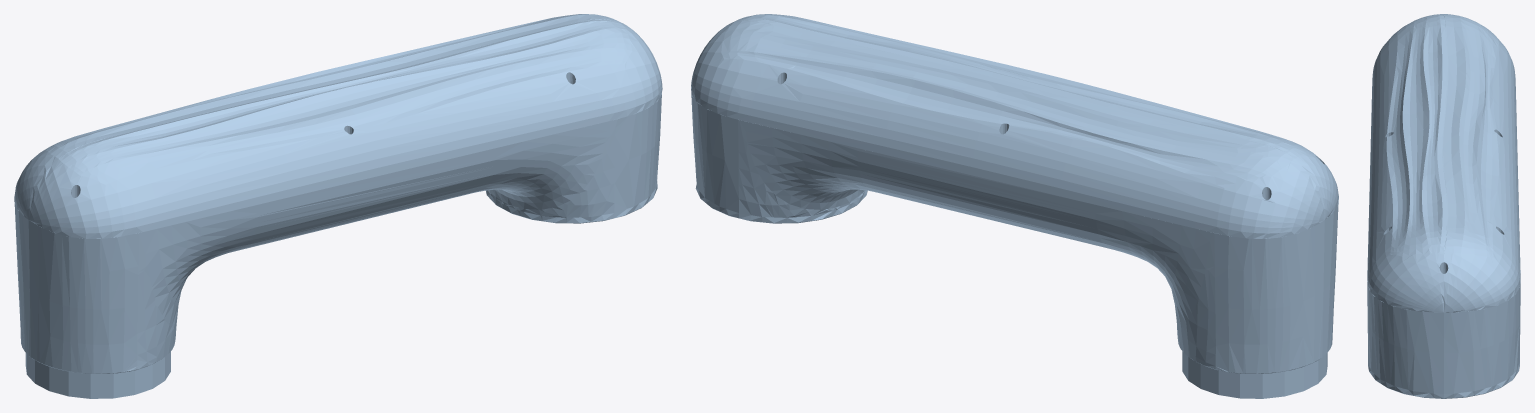
3 views of the same model, side by side, from view 1: azimuth 30°, elevation 25°; view 2: azimuth 150°, elevation 25°; view 3: azimuth 270°, elevation 25° (orthographic). The views are drawn at different scales.
Visible parts, largest first — view 1: Link2; view 2: Link2; view 3: Link2.
Boxes of the visible parts, x1,y1,x2,y2 form: Link2: (14, 14, 662, 398); Link2: (691, 14, 1338, 398); Link2: (1367, 14, 1520, 398).
Size of the model in its own units: 0.3667 by 0.09 by 0.1295.
